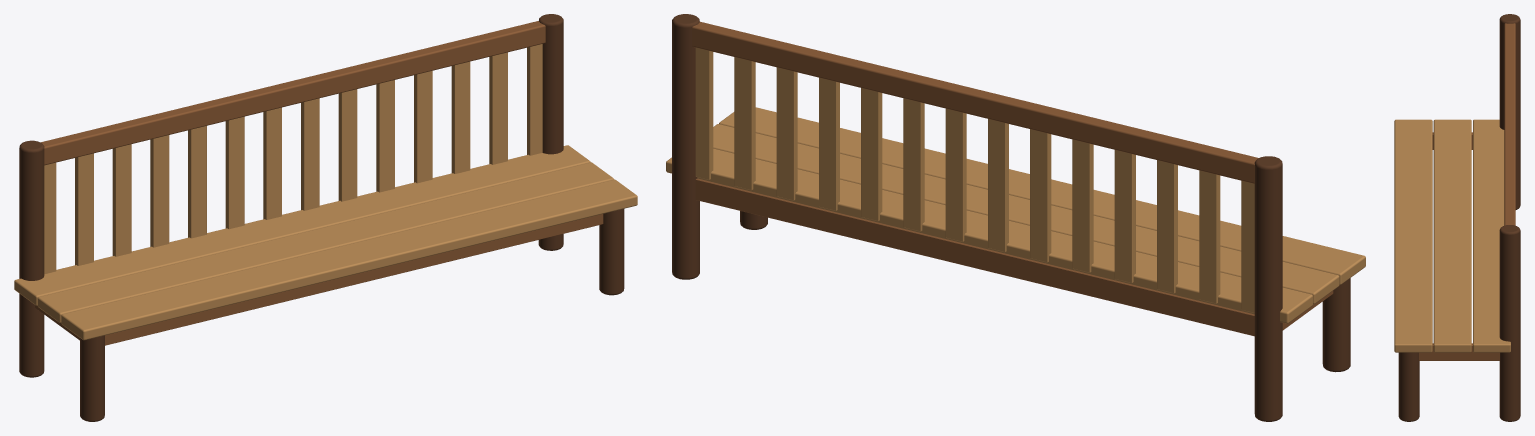
The model's file is cabin-log-bench.glb.
3 renders of one model, left to right at view 1: azimuth 30°, elevation 25°; view 2: azimuth 150°, elevation 25°; view 3: azimuth 270°, elevation 25°, orthographic. The views are drawn at different scales.
Visible parts, largest first — view 1: seat.plank.3, seat.plank.2, seat.plank.1, back.rail, post.back.left, apron.front, post.back.right, back.slat.6, back.slat.9, back.slat.4, back.slat.3, back.slat.12 (+11 smaller); view 2: back.rail, apron.back, seat.plank.1, seat.plank.3, seat.plank.2, post.back.left, post.back.right, back.slat.5, back.slat.8, back.slat.12, back.slat.9, back.slat.4 (+10 smaller); view 3: seat.plank.3, seat.plank.2, seat.plank.1, post.back.right, back.rail, post.back.left, leg.front.right, apron.side.right.
Boxes of the visible parts, box(x1,y1,x2,y2) form: seat.plank.3: box(61, 179, 637, 340); seat.plank.2: box(37, 162, 614, 322); seat.plank.1: box(14, 145, 590, 305); back.rail: box(41, 21, 545, 165); post.back.left: box(19, 140, 44, 377); apron.front: box(105, 214, 603, 345); post.back.right: box(538, 14, 563, 250); back.slat.6: box(225, 116, 244, 229); back.slat.9: box(338, 89, 357, 201); back.slat.4: box(150, 135, 169, 247); back.slat.3: box(112, 144, 131, 256); back.slat.12: box(451, 61, 470, 173); back.rail: box(692, 21, 1258, 183); apron.back: box(695, 178, 1254, 336); seat.plank.1: box(666, 148, 1312, 323); seat.plank.3: box(719, 107, 1365, 284); seat.plank.2: box(713, 124, 1339, 304); post.back.left: box(1254, 156, 1282, 421); post.back.right: box(672, 14, 699, 279); back.slat.5: box(1072, 139, 1093, 272); back.slat.8: box(945, 108, 966, 241); back.slat.12: box(776, 67, 797, 200); back.slat.9: box(903, 98, 924, 231); back.slat.4: box(1114, 150, 1135, 282); seat.plank.3: box(1394, 119, 1432, 352); seat.plank.2: box(1433, 119, 1471, 352); seat.plank.1: box(1473, 119, 1510, 352); post.back.right: box(1499, 225, 1520, 421); back.rail: box(1504, 23, 1515, 225); post.back.left: box(1499, 14, 1520, 209); leg.front.right: box(1398, 352, 1419, 421); apron.side.right: box(1419, 343, 1499, 360).
Size of the model in its own units: 2.8 by 1.1 by 0.662.
